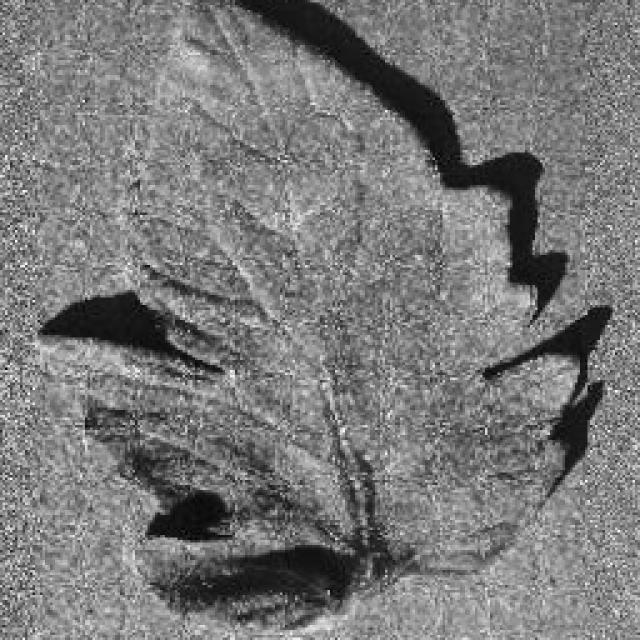Healthy: (35, 0, 587, 640)
